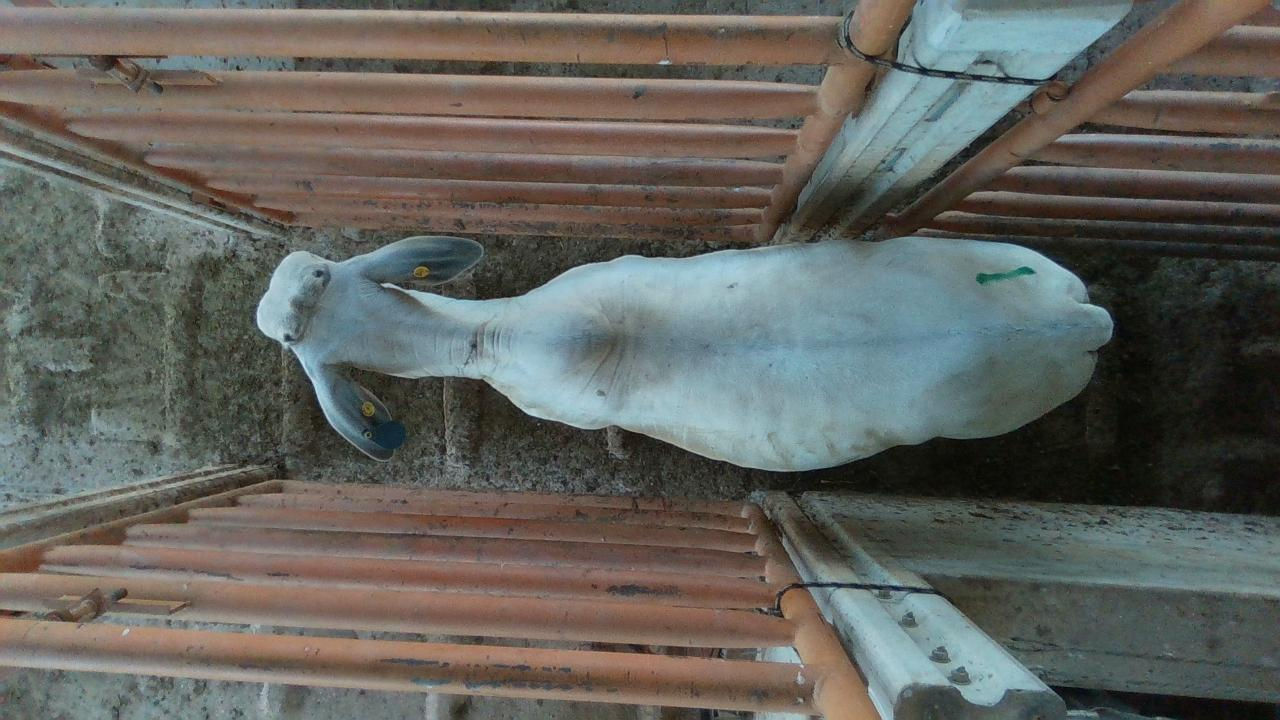cattle: (254, 231, 1115, 473)
